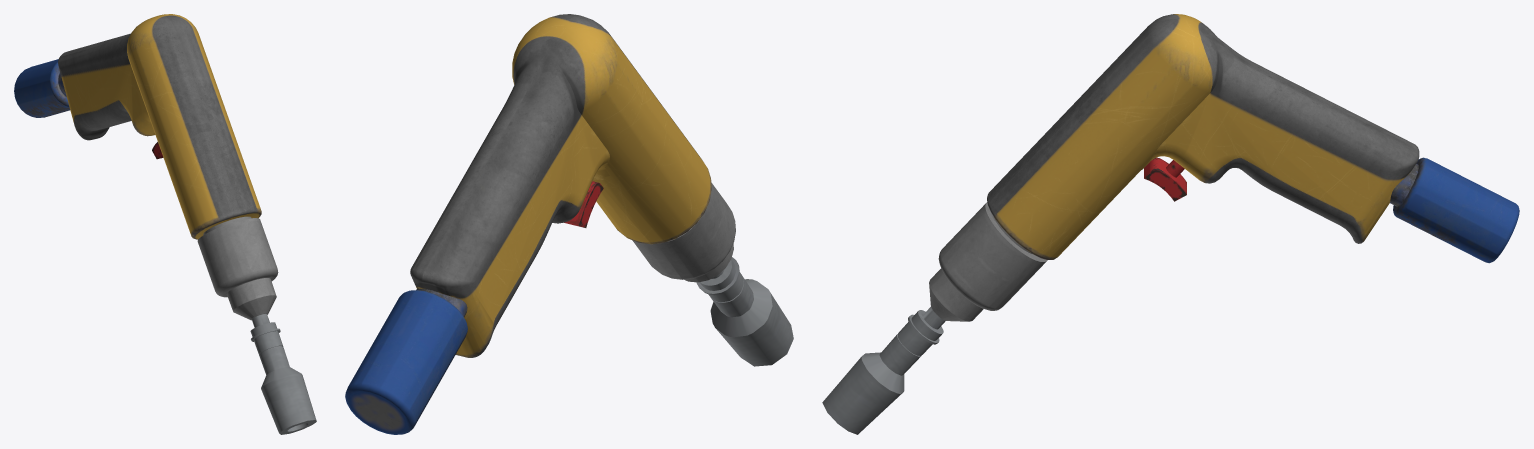
Rendered from Battery Gun.fbx.
3 views of the same model, side by side, from view 1: azimuth 30°, elevation 25°; view 2: azimuth 150°, elevation 25°; view 3: azimuth 270°, elevation 25° (orthographic). The views are drawn at different scales.
Visible parts, largest first — view 1: GRIPPER, GEAR_SELECTION_SWITCH, CHUCK, BATTERY; view 2: GRIPPER, BATTERY, CHUCK, GEAR_SELECTION_SWITCH, SPEED_CONTROL_TRIGGER; view 3: GRIPPER, BATTERY, GEAR_SELECTION_SWITCH, CHUCK, SPEED_CONTROL_TRIGGER.
Part boxes in pixels (x1,y1,x2,y2): GRIPPER: [58, 14, 261, 239]; GEAR_SELECTION_SWITCH: [197, 216, 278, 320]; CHUCK: [250, 314, 316, 434]; BATTERY: [14, 59, 70, 117]; GRIPPER: [410, 14, 711, 357]; BATTERY: [345, 288, 467, 434]; CHUCK: [696, 257, 793, 366]; GEAR_SELECTION_SWITCH: [632, 182, 735, 282]; SPEED_CONTROL_TRIGGER: [564, 181, 603, 227]; GRIPPER: [987, 14, 1419, 259]; BATTERY: [1390, 157, 1519, 263]; GEAR_SELECTION_SWITCH: [929, 202, 1047, 321]; CHUCK: [822, 307, 945, 434]; SPEED_CONTROL_TRIGGER: [1144, 157, 1186, 201].
Size of the model in its own units: 4.06 by 19.57 by 29.96.
